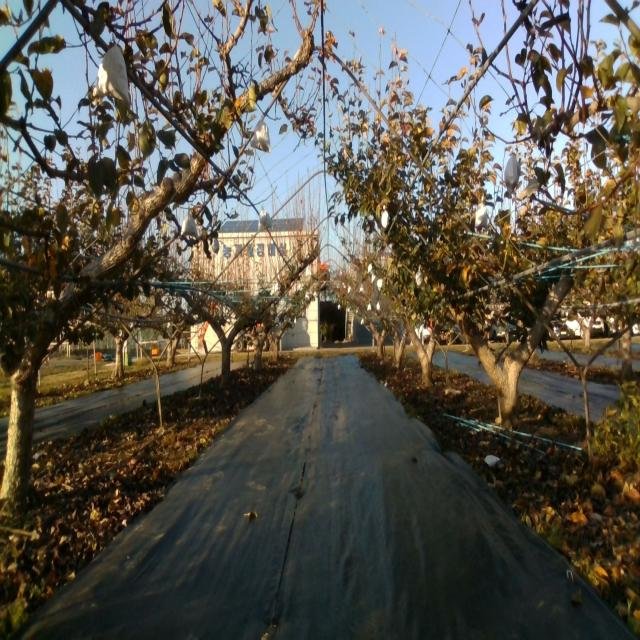pearbags: (97, 44, 132, 106), (504, 154, 522, 196), (251, 118, 270, 152), (179, 212, 199, 240), (474, 203, 488, 230), (258, 207, 273, 232)
